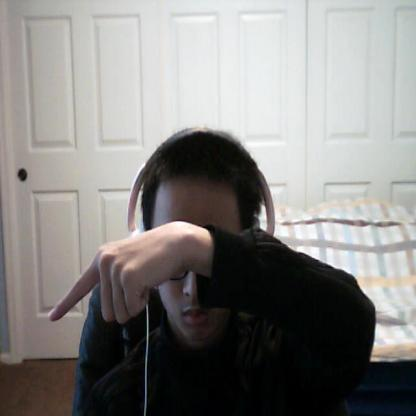finger_point: (50, 267, 98, 325)
